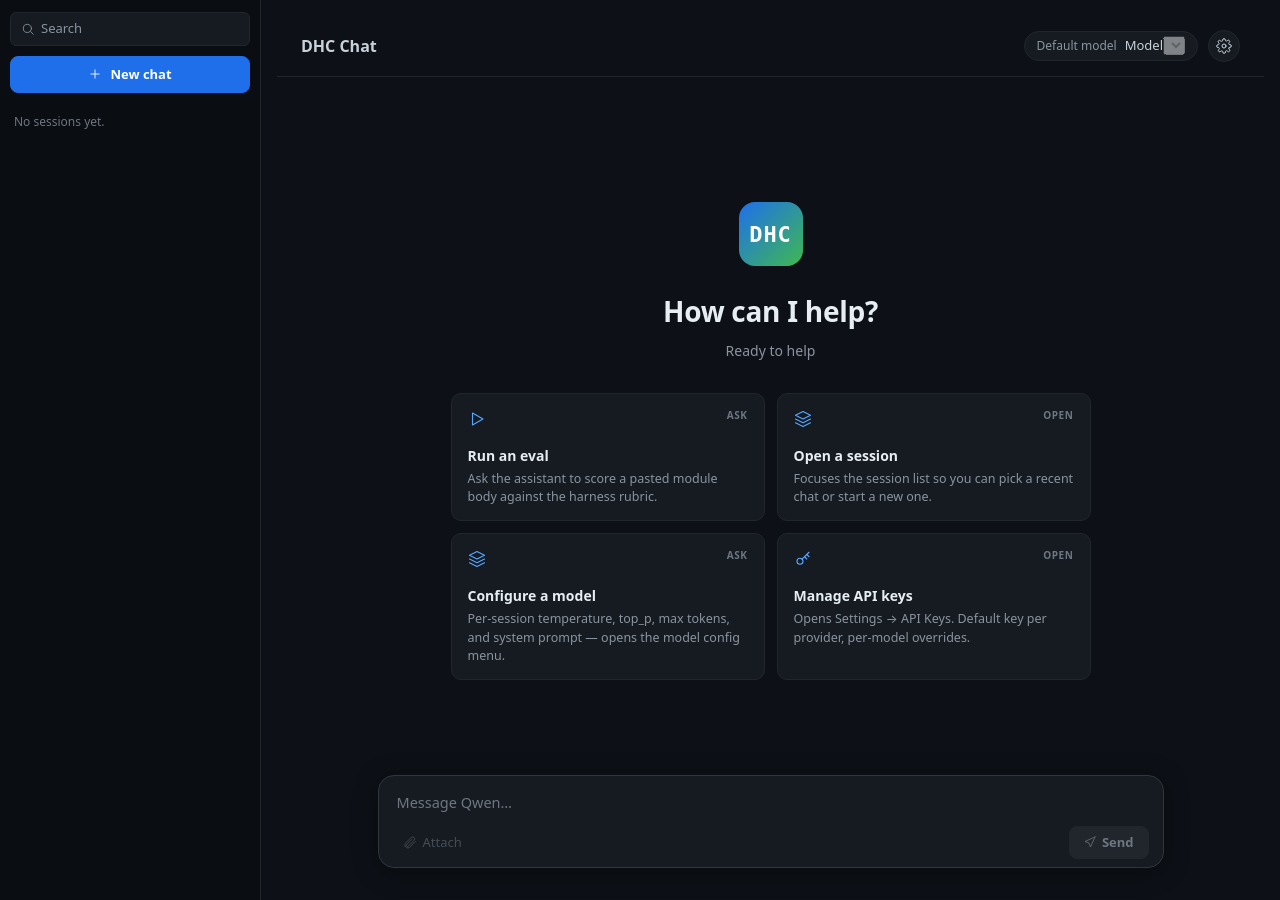
Test case: <ChatPanel /> (v1.5.1 redesign) › opens the gear menu on click; Escape closes it
The width and height of the screenshot is (1280, 900).
(page scrolled)
Step 1. Click the button with test id "chat-gear" → (1224, 46), box [1208, 30, 1240, 62]
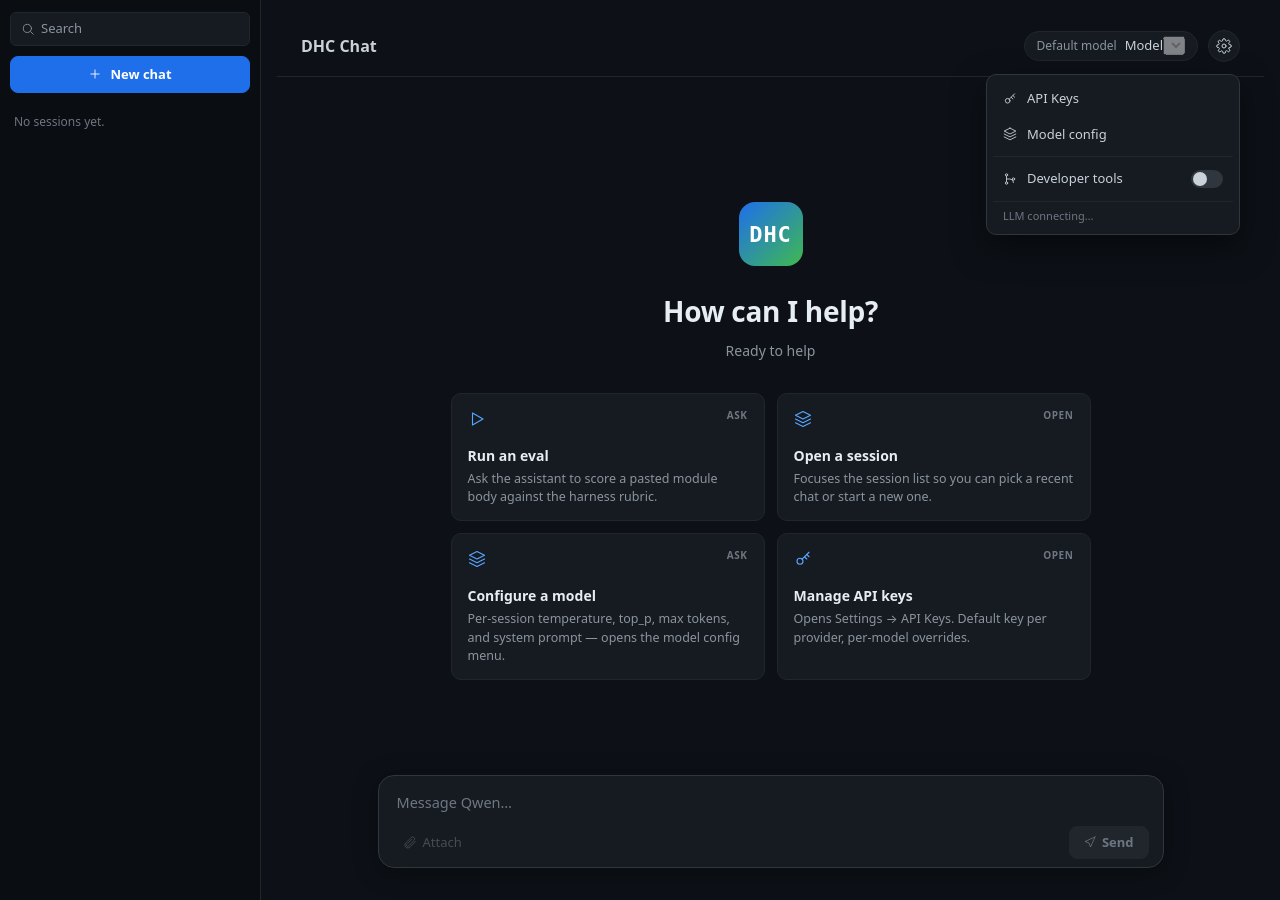
Now the menu with test id "chat-gear-menu" is shown, box [986, 74, 1240, 235]
Step 2. Press Escape
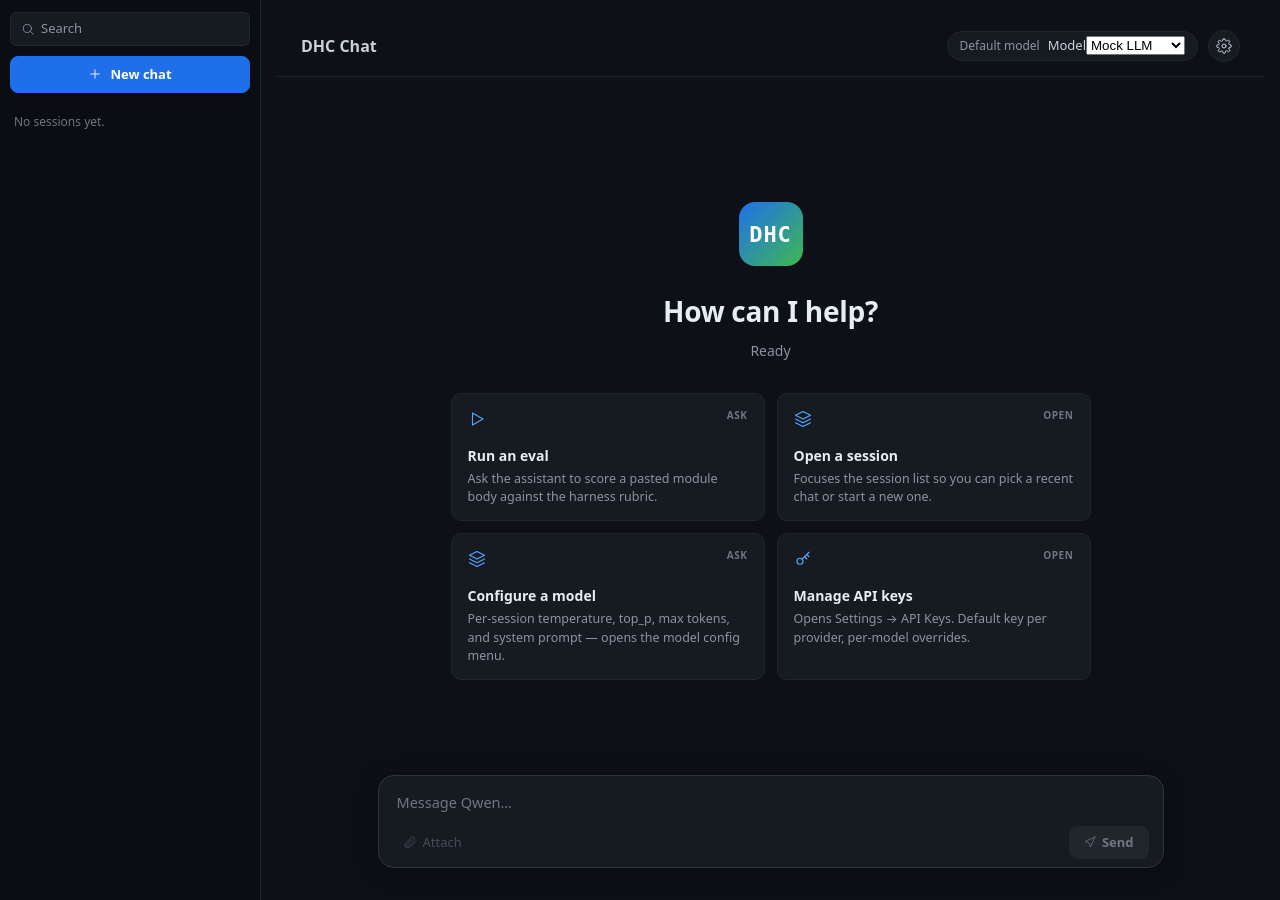
Now the menu with test id "chat-gear-menu" is gone
